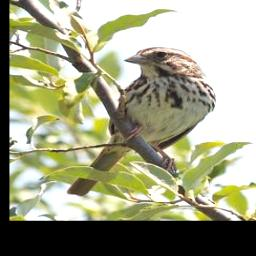Sparrow: (65, 46, 215, 196)
